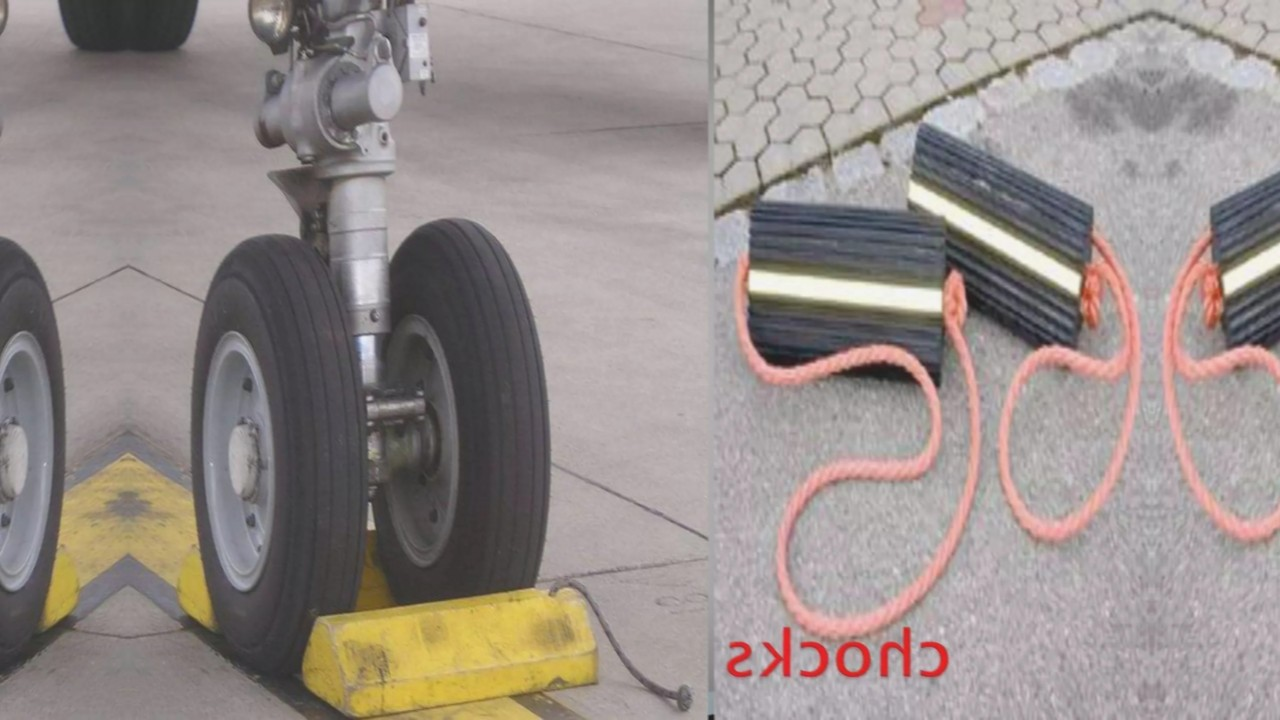chock: (903, 120, 1096, 349), (297, 576, 603, 711), (734, 201, 949, 385), (1208, 120, 1280, 349)
wheel: (190, 236, 367, 676), (375, 218, 553, 610), (0, 236, 66, 676), (56, 0, 125, 49), (131, 0, 200, 49)
